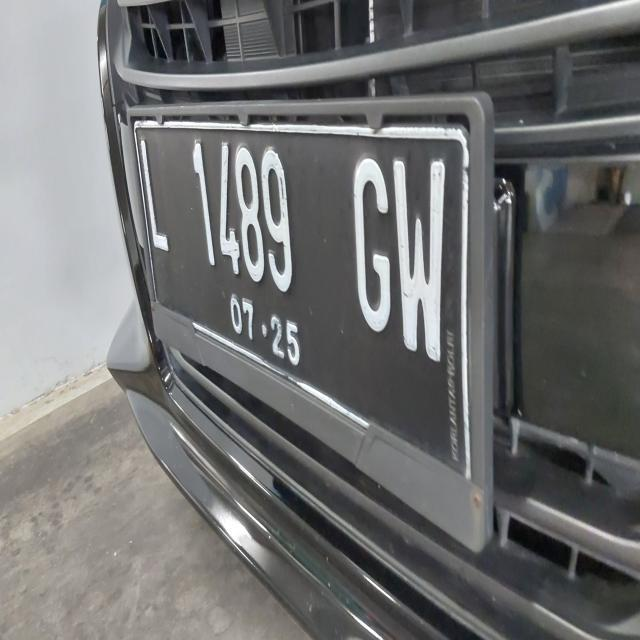1: (184, 134, 218, 290)
4: (212, 135, 240, 287)
8: (234, 135, 268, 301)
9: (261, 134, 300, 304)
G: (346, 140, 394, 355)
L: (136, 134, 181, 272)
W: (393, 142, 456, 366)
